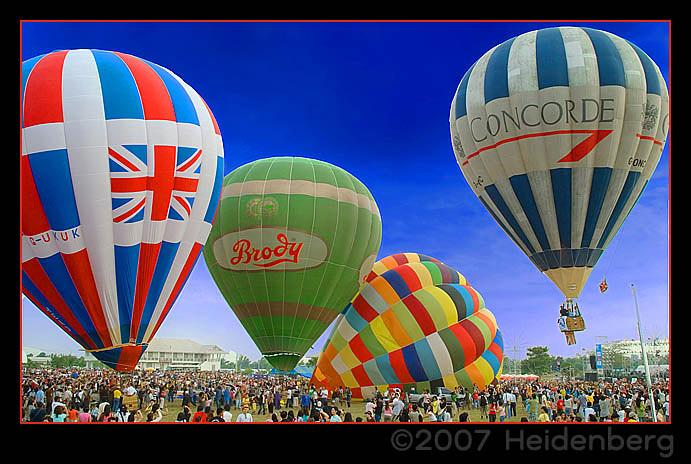balloon: (449, 25, 670, 345), (20, 48, 225, 374), (203, 155, 383, 374), (308, 252, 505, 402)
